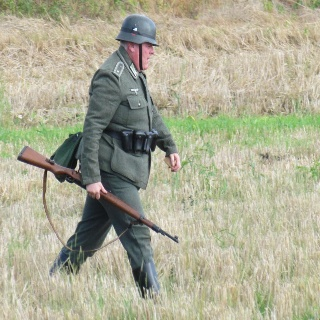rifle: (16, 144, 181, 248)
